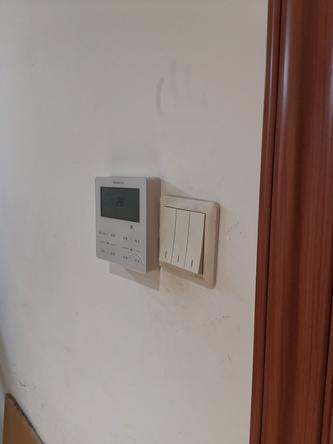switch: (184, 208, 207, 278), (170, 203, 188, 272), (158, 202, 176, 268)
